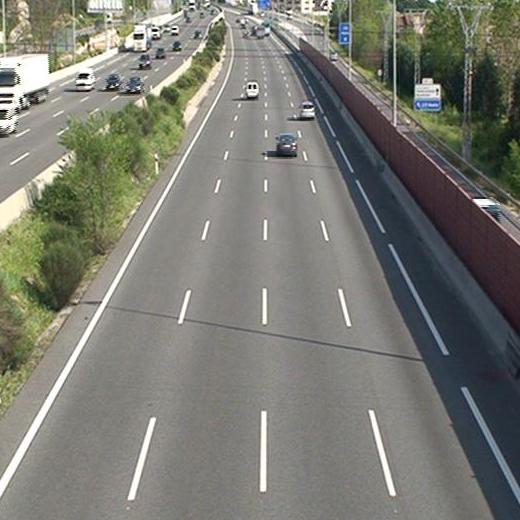car: (276, 134, 296, 154), (301, 103, 315, 119)
van: (246, 82, 258, 98)
